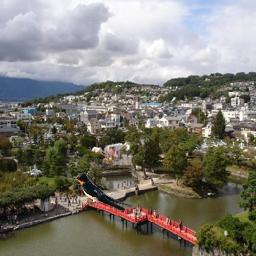Swallow: (72, 172, 133, 211)
